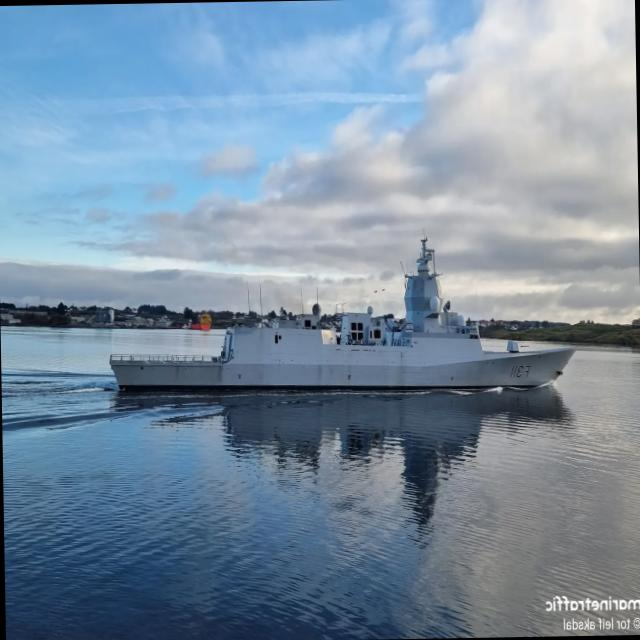Military: (110, 238, 574, 390)
